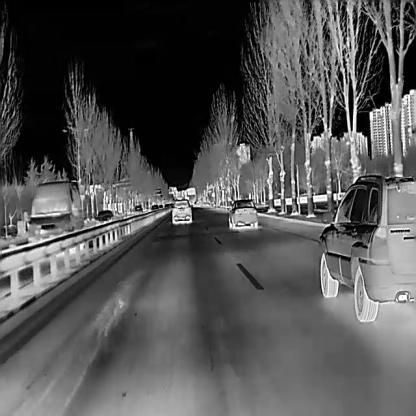car: (318, 171, 415, 322), (27, 178, 82, 254), (226, 198, 258, 228), (170, 197, 191, 224), (94, 207, 113, 228), (133, 203, 143, 218), (150, 203, 158, 212), (158, 204, 163, 210)
